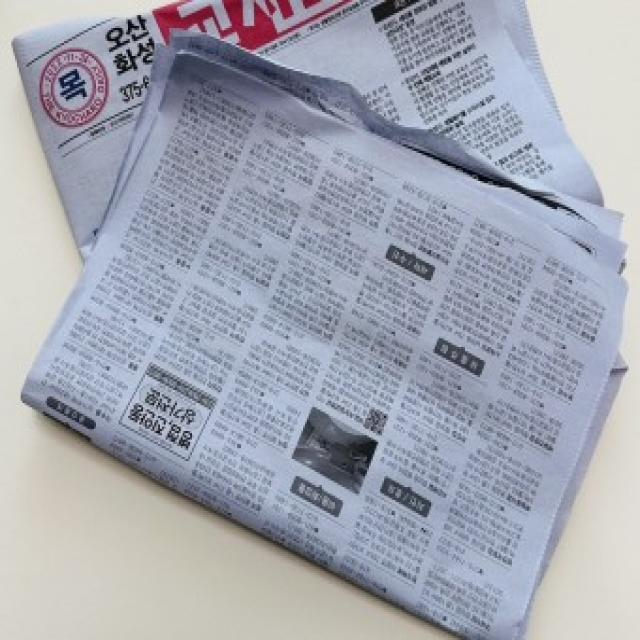Newspaper: (7, 0, 629, 640)
